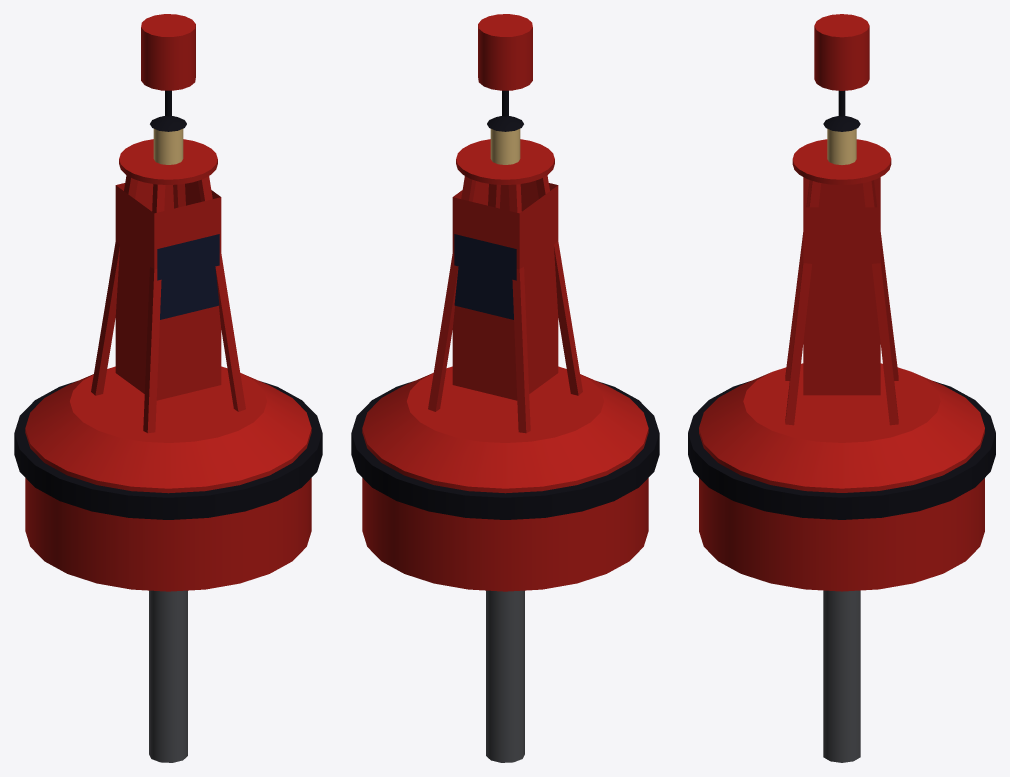
Rendered from buoy_lateral_port.glb.
The picture shows the model from 3 angles, left to right: view 1: azimuth 30°, elevation 25°; view 2: azimuth 150°, elevation 25°; view 3: azimuth 270°, elevation 25°; orthographic projection.
Visible parts, largest first — view 1: buoy_lateral_port; view 2: buoy_lateral_port; view 3: buoy_lateral_port.
Part boxes in pixels (box(x1,y1,x2,y2)): buoy_lateral_port: box(14, 14, 322, 762); buoy_lateral_port: box(351, 14, 659, 762); buoy_lateral_port: box(688, 14, 995, 762).
Bounding box in the file's own units: 3.12 × 8.15 × 3.12.
